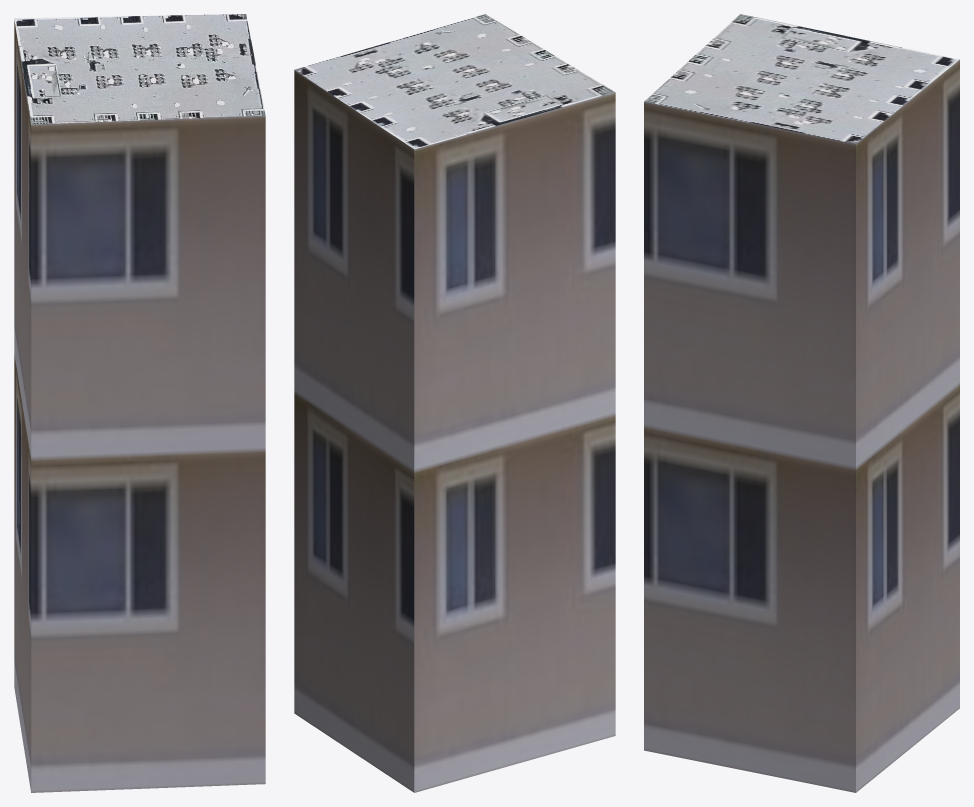
The model's file is ResTex__4071.fbx.
The picture shows the model from 3 angles, left to right: view 1: azimuth 30°, elevation 25°; view 2: azimuth 150°, elevation 25°; view 3: azimuth 270°, elevation 25°; orthographic projection. The views are drawn at different scales.
Parts seen in each view (by area): view 1: CityEngineMaterial_21_m, CityEngineMaterial_8_m; view 2: CityEngineMaterial_21_m, CityEngineMaterial_8_m; view 3: CityEngineMaterial_21_m, CityEngineMaterial_8_m.
Boxes of the visible parts, bbox=[...] form: CityEngineMaterial_21_m: bbox=[14, 20, 265, 792]; CityEngineMaterial_8_m: bbox=[14, 14, 265, 124]; CityEngineMaterial_21_m: bbox=[294, 70, 615, 792]; CityEngineMaterial_8_m: bbox=[294, 14, 615, 149]; CityEngineMaterial_21_m: bbox=[644, 60, 959, 792]; CityEngineMaterial_8_m: bbox=[644, 14, 959, 143].
Bounding box in the file's own units: 2.58 × 6 × 2.65.
Materials: 2 (2 with a texture image).
